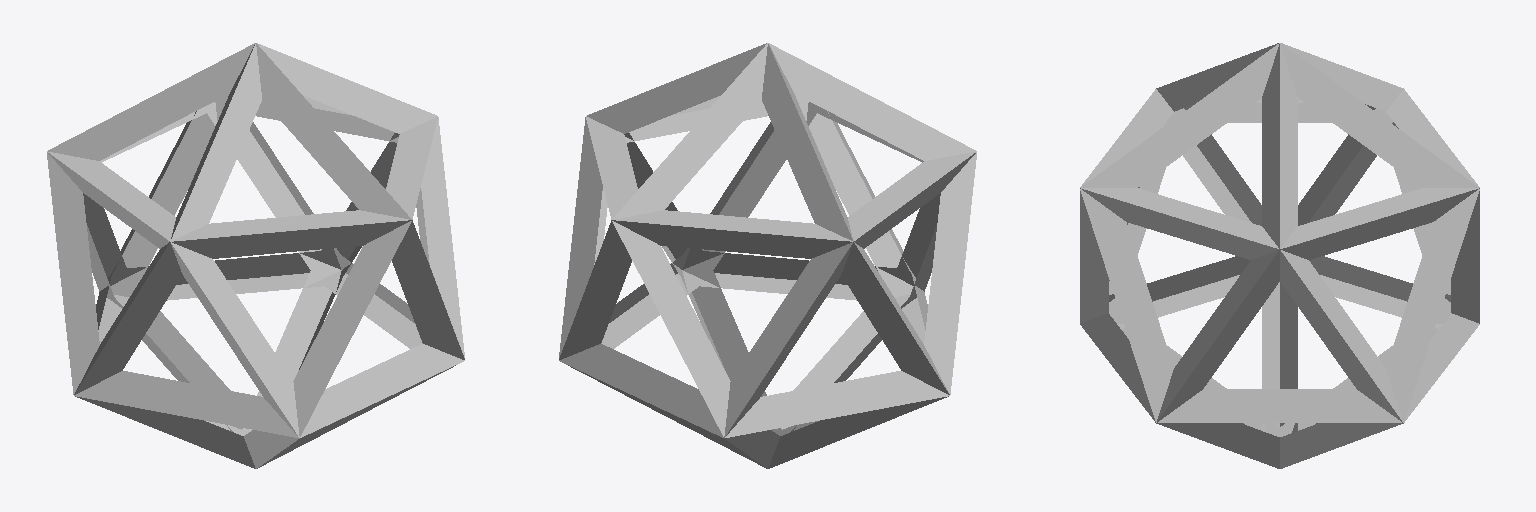
The model's file is projectile_border.obj.
The picture shows the model from 3 angles: view 1: azimuth 30°, elevation 25°; view 2: azimuth 150°, elevation 25°; view 3: azimuth 270°, elevation 25°; orthographic projection.
Parts seen in each view (by area): view 1: Icoborder_Icosphere; view 2: Icoborder_Icosphere; view 3: Icoborder_Icosphere.
Boxes of the visible parts, box(x1,y1,x2,y2) form: Icoborder_Icosphere: box(47, 43, 464, 468); Icoborder_Icosphere: box(559, 43, 976, 468); Icoborder_Icosphere: box(1080, 43, 1479, 468).
Bounding box in the file's own units: 0.1867 × 0.2087 × 0.1775.